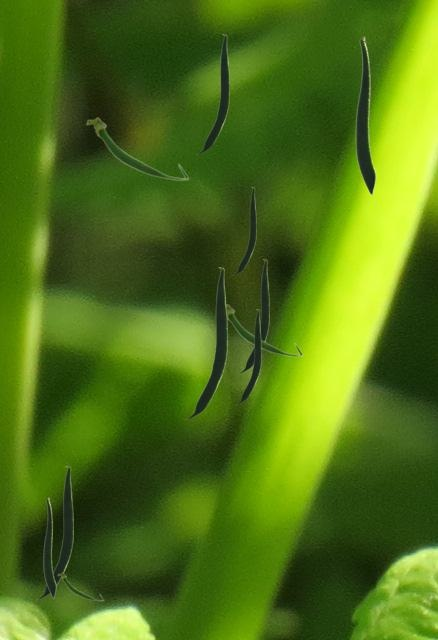french_bean: (85, 116, 188, 180), (185, 267, 226, 418), (36, 466, 72, 598), (227, 303, 302, 356), (196, 34, 228, 153), (238, 259, 268, 372), (355, 36, 375, 194), (236, 309, 260, 403), (233, 187, 255, 274), (57, 572, 103, 600), (43, 497, 55, 597)
